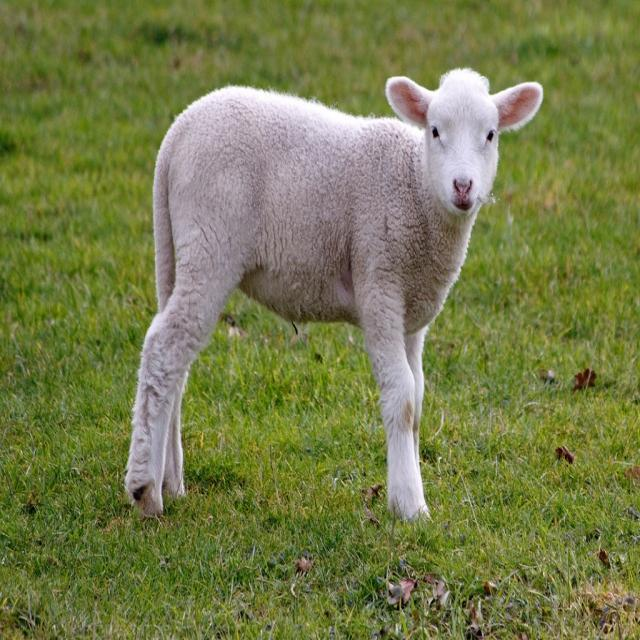Sheep: (109, 59, 563, 537)
